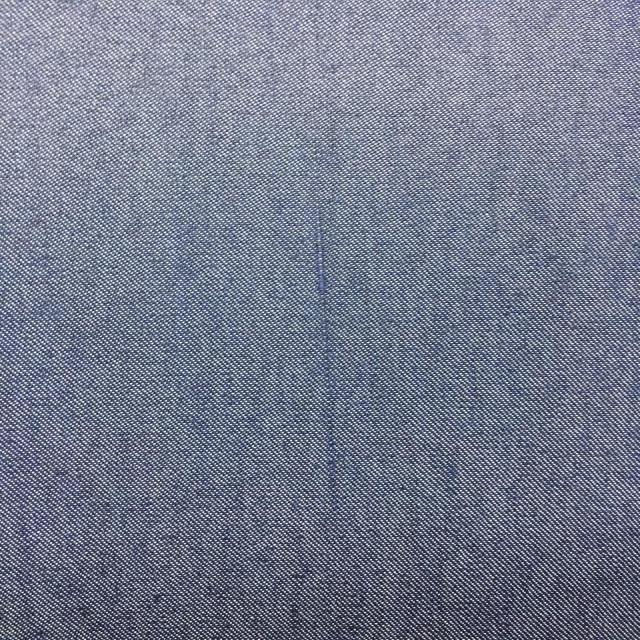Line: (307, 142, 340, 513)
